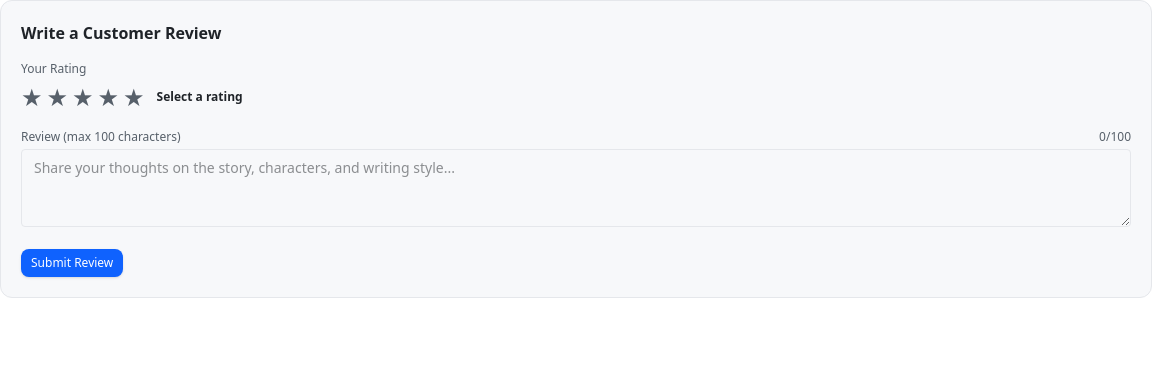
Test: ReviewFormTest › duplicateMessage: a second review shows the duplicate message
The width and height of the screenshot is (1152, 371).
Click the button named "Rate 3 stars" at (83, 97), box [72,81,94,113]
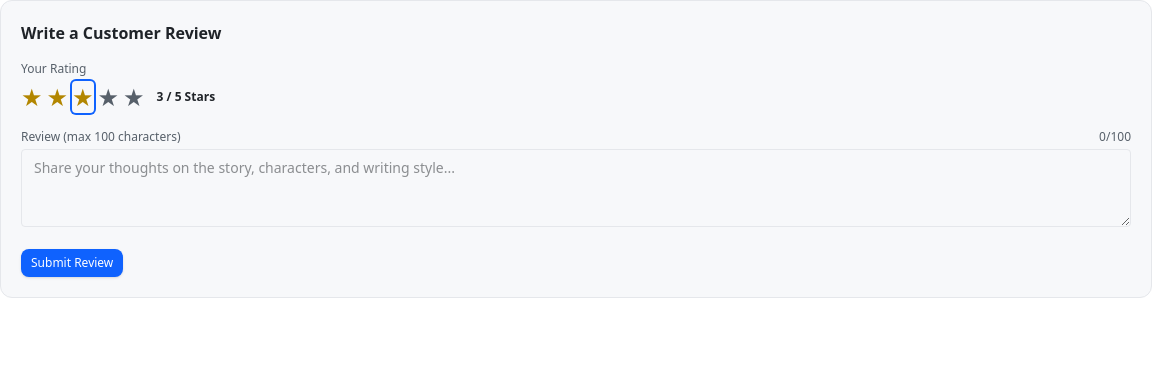
Type "Great read" into the text box with placeholder "Share your thoughts" at (576, 188), box [21,149,1131,227]
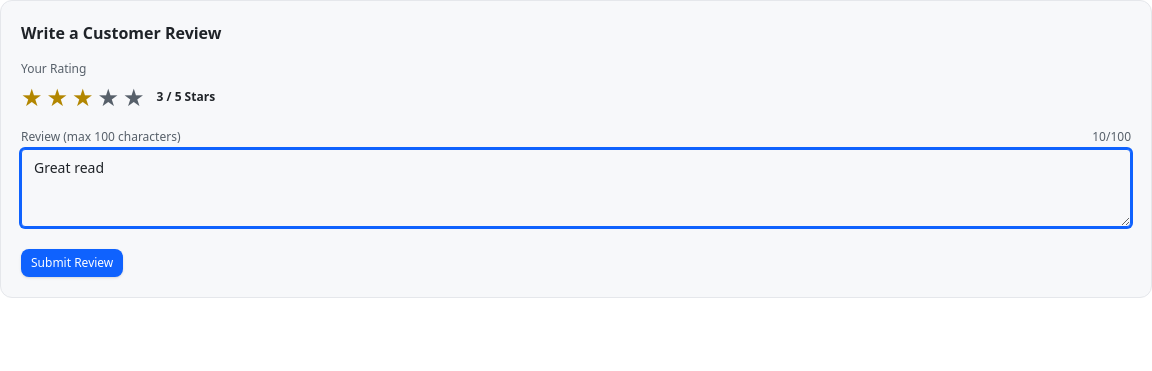
Click the button "Submit Review" at (72, 263), box [21,249,123,277]
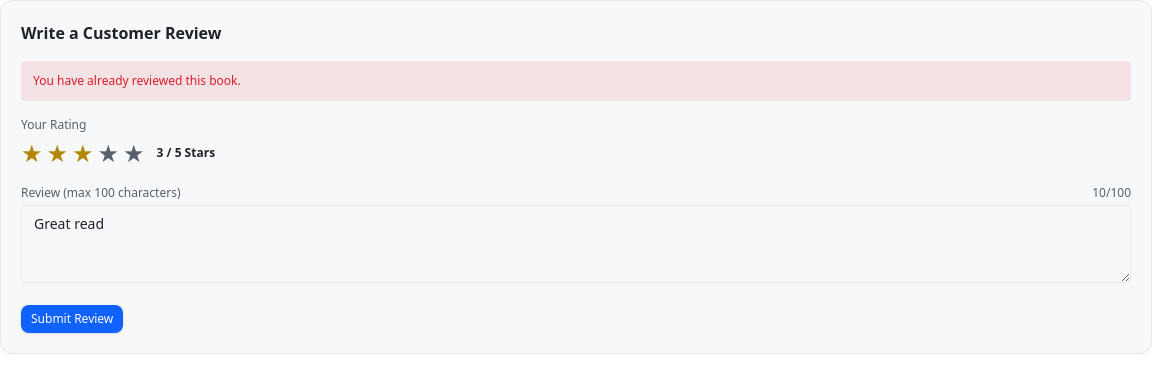
Result: the text "You have already reviewed this book." is shown at [21,61,1131,101]
